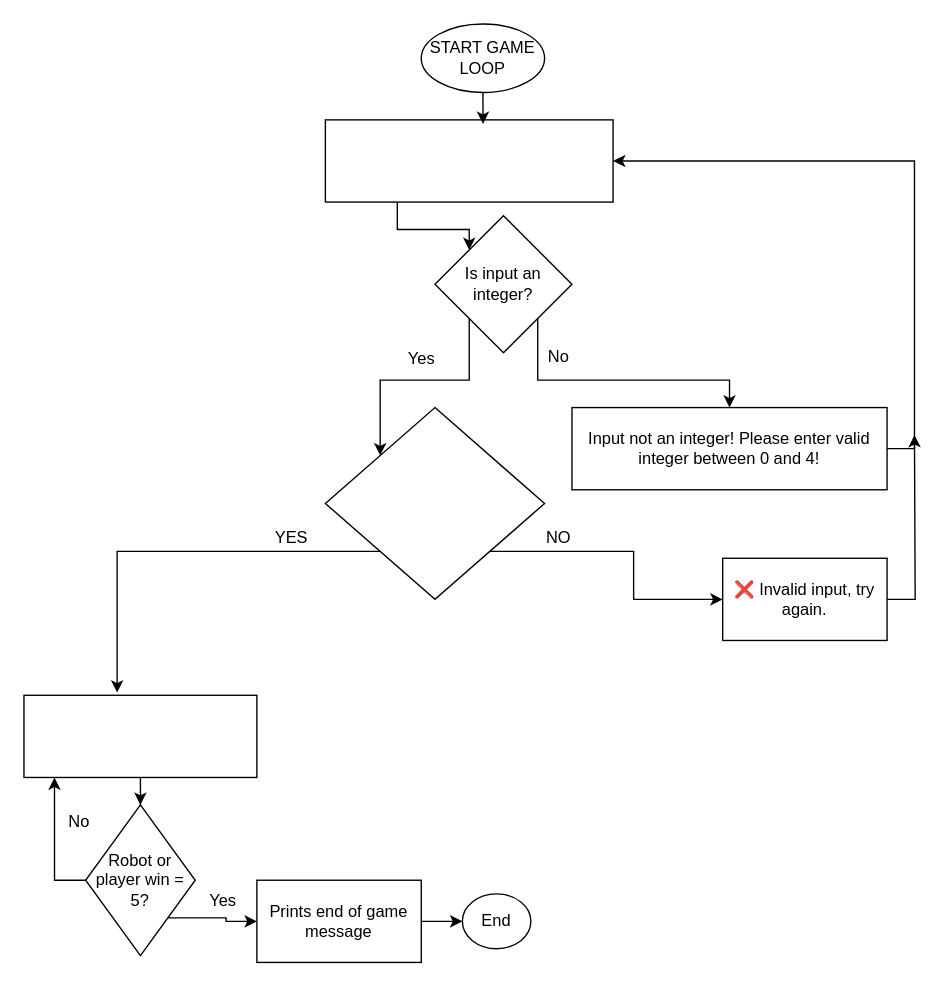
This 951x986 diagram has some shape labels left out. The box of each missing label's shape, as (x1, y1, x2, y2) in pixels:
Generates robot choice calculates result updates and prints scoreboard: (23, 694, 257, 777)
Is input a valid integer between 0 and 4 ?: (324, 406, 545, 599)
Select a shape: 0🪨 || 1🦎 || 2✂️ || 3🗒️ || 4🖖: (324, 119, 613, 202)
